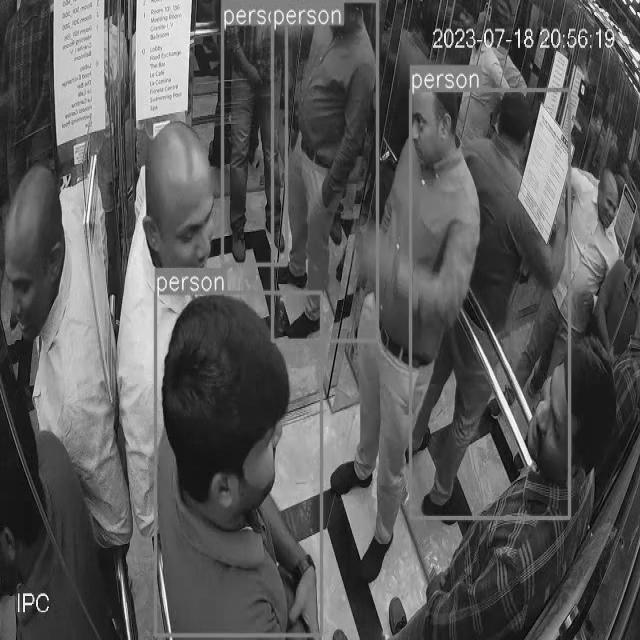person: (351, 329, 639, 640), (336, 53, 488, 581), (414, 88, 569, 522), (159, 264, 324, 628), (0, 158, 149, 560), (126, 118, 226, 520), (0, 373, 124, 640), (277, 10, 373, 337), (224, 27, 293, 270)
